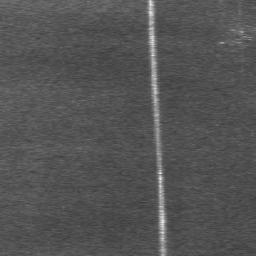Bright scratch: (148, 0, 167, 256)
